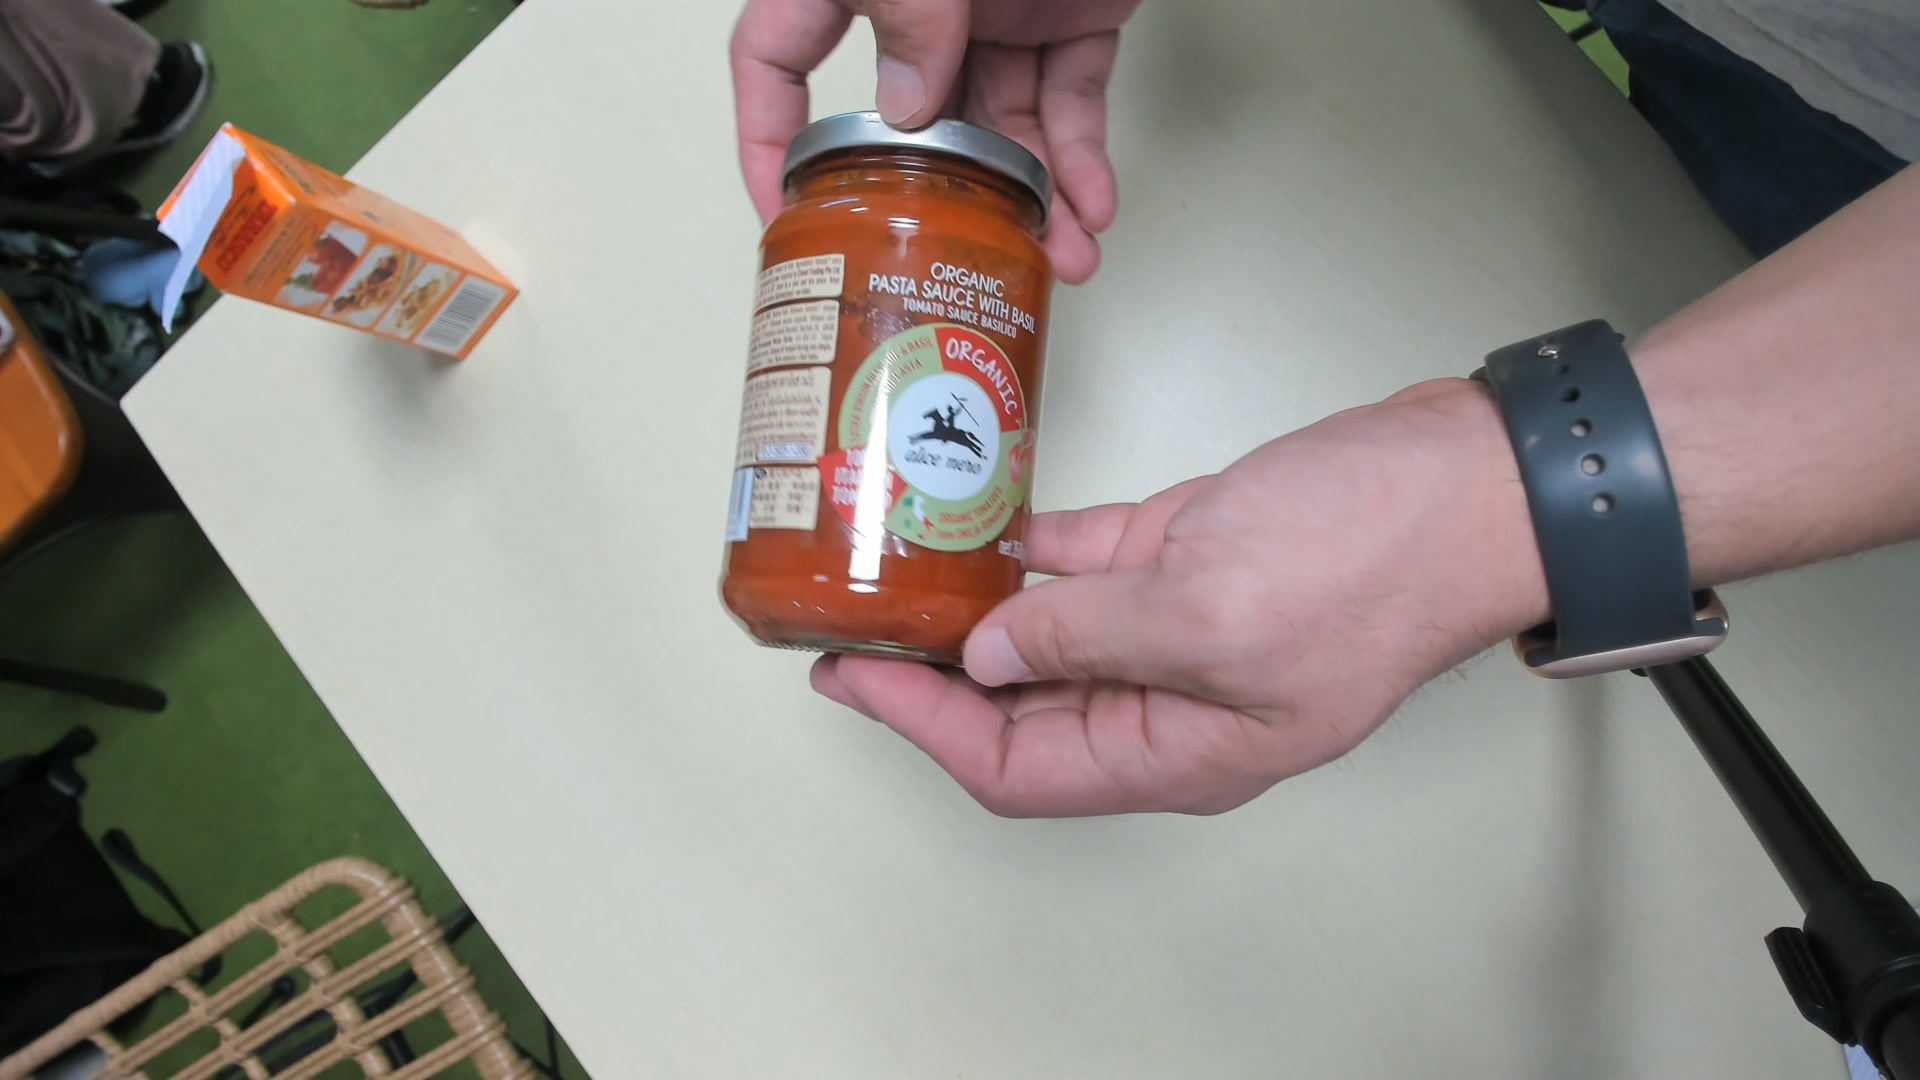PastaSauce_300-399g_NonHalal_NonHealthy: (717, 105, 1058, 669)
